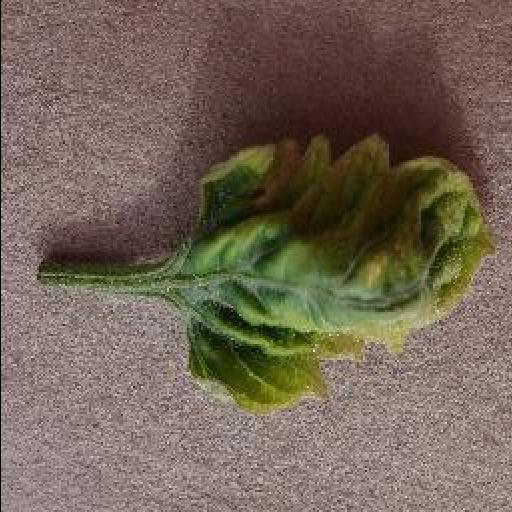disease_tomato: (178, 128, 498, 412)
